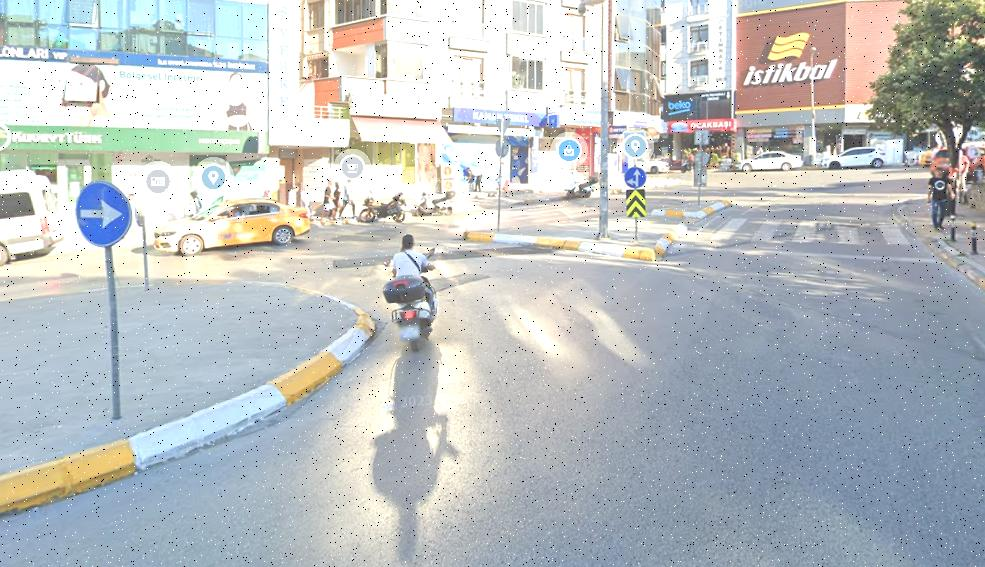turnright: (75, 182, 130, 244)
